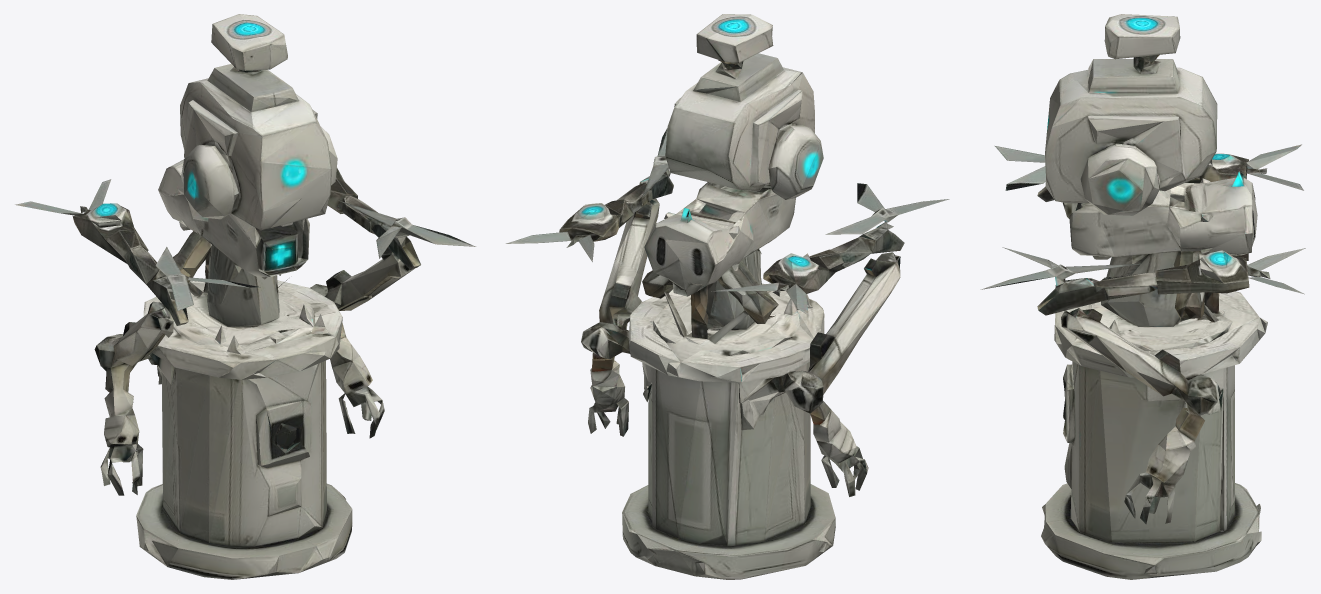
Rendered from repair-generator.glb.
The picture shows the model from 3 angles, left to right: view 1: azimuth 30°, elevation 25°; view 2: azimuth 150°, elevation 25°; view 3: azimuth 270°, elevation 25°; orthographic projection.
Size of the model in its own units: 1.18 by 1.9 by 1.1.
Materials: 1 (1 with a texture image).
